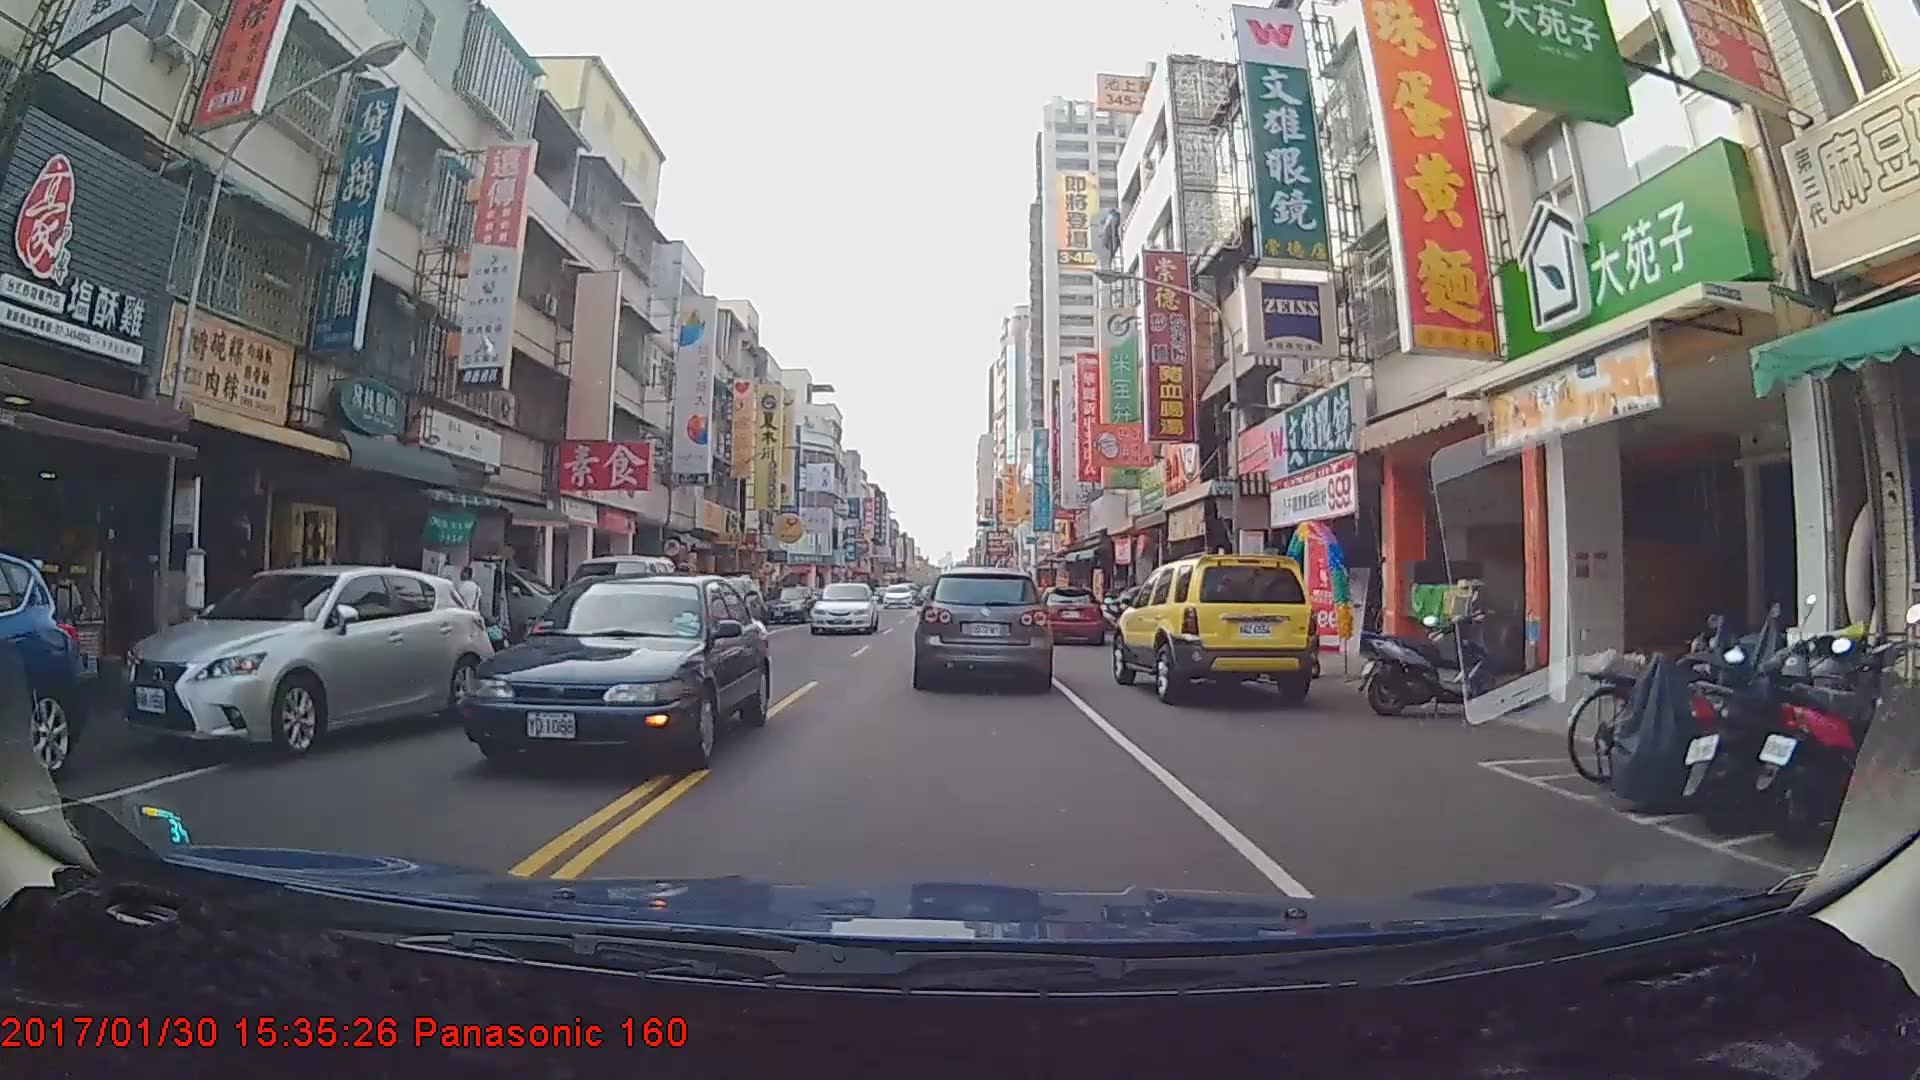vehicle: (120, 562, 495, 758), (454, 568, 777, 767), (1113, 547, 1320, 703), (0, 541, 92, 793), (916, 564, 1052, 688), (1033, 585, 1104, 644), (807, 579, 878, 634), (884, 585, 914, 609)
